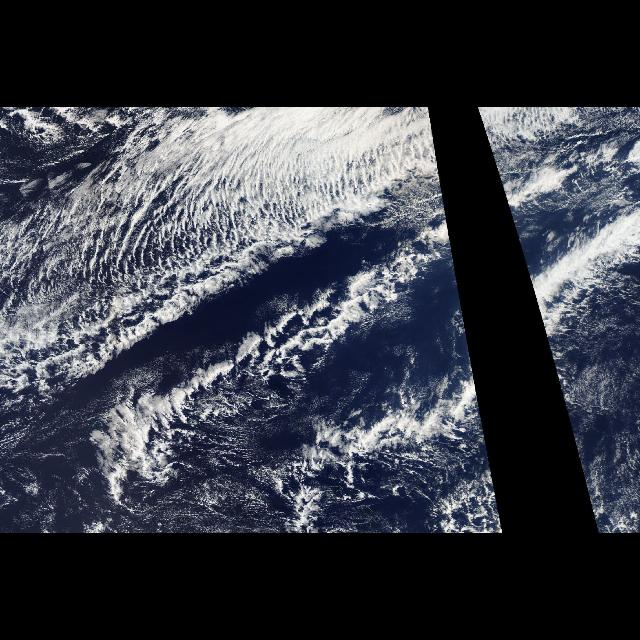Fish: (77, 128, 470, 418), (483, 128, 562, 350)
Sugar: (115, 418, 311, 534), (552, 316, 640, 534)
